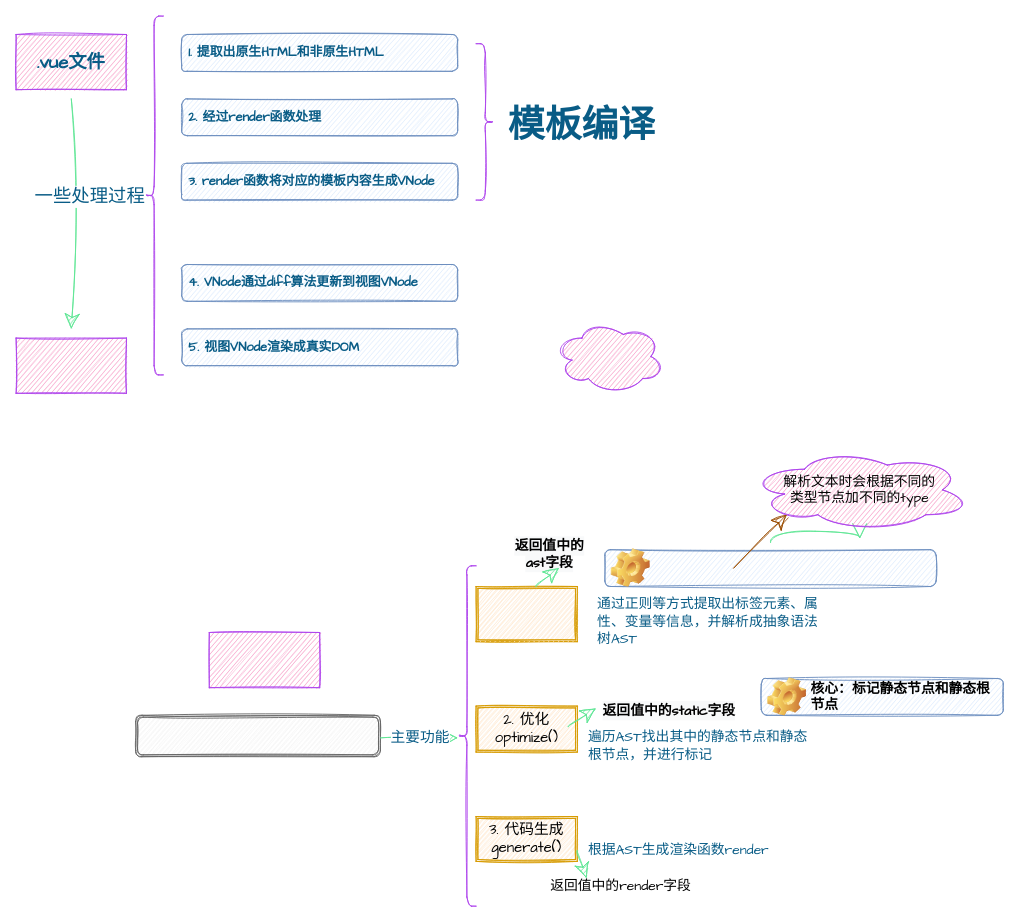
This 1019x923 diagram has some shape labels left out. Here are the shapes that lost their labels. From the top down, the box of each, then its label:
(15, 337, 126, 393): 页面视图
(604, 549, 936, 586): 核心：调用parseHTML函数对开始标签、结束标签、文本、注释进行分别处理
(475, 586, 577, 642): 1. 模板解析 parse()
(208, 632, 320, 688): 模板编译 详解
(135, 714, 380, 757): baseCompile() 编译模板的入口函数
